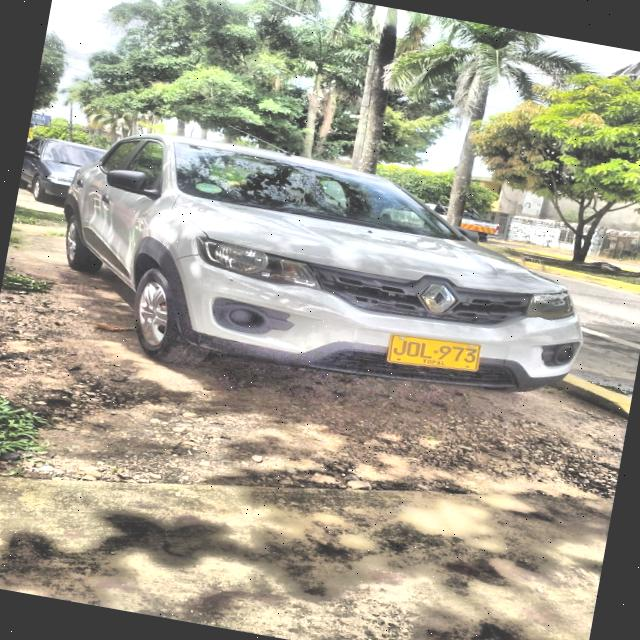plate: (388, 334, 480, 371)
